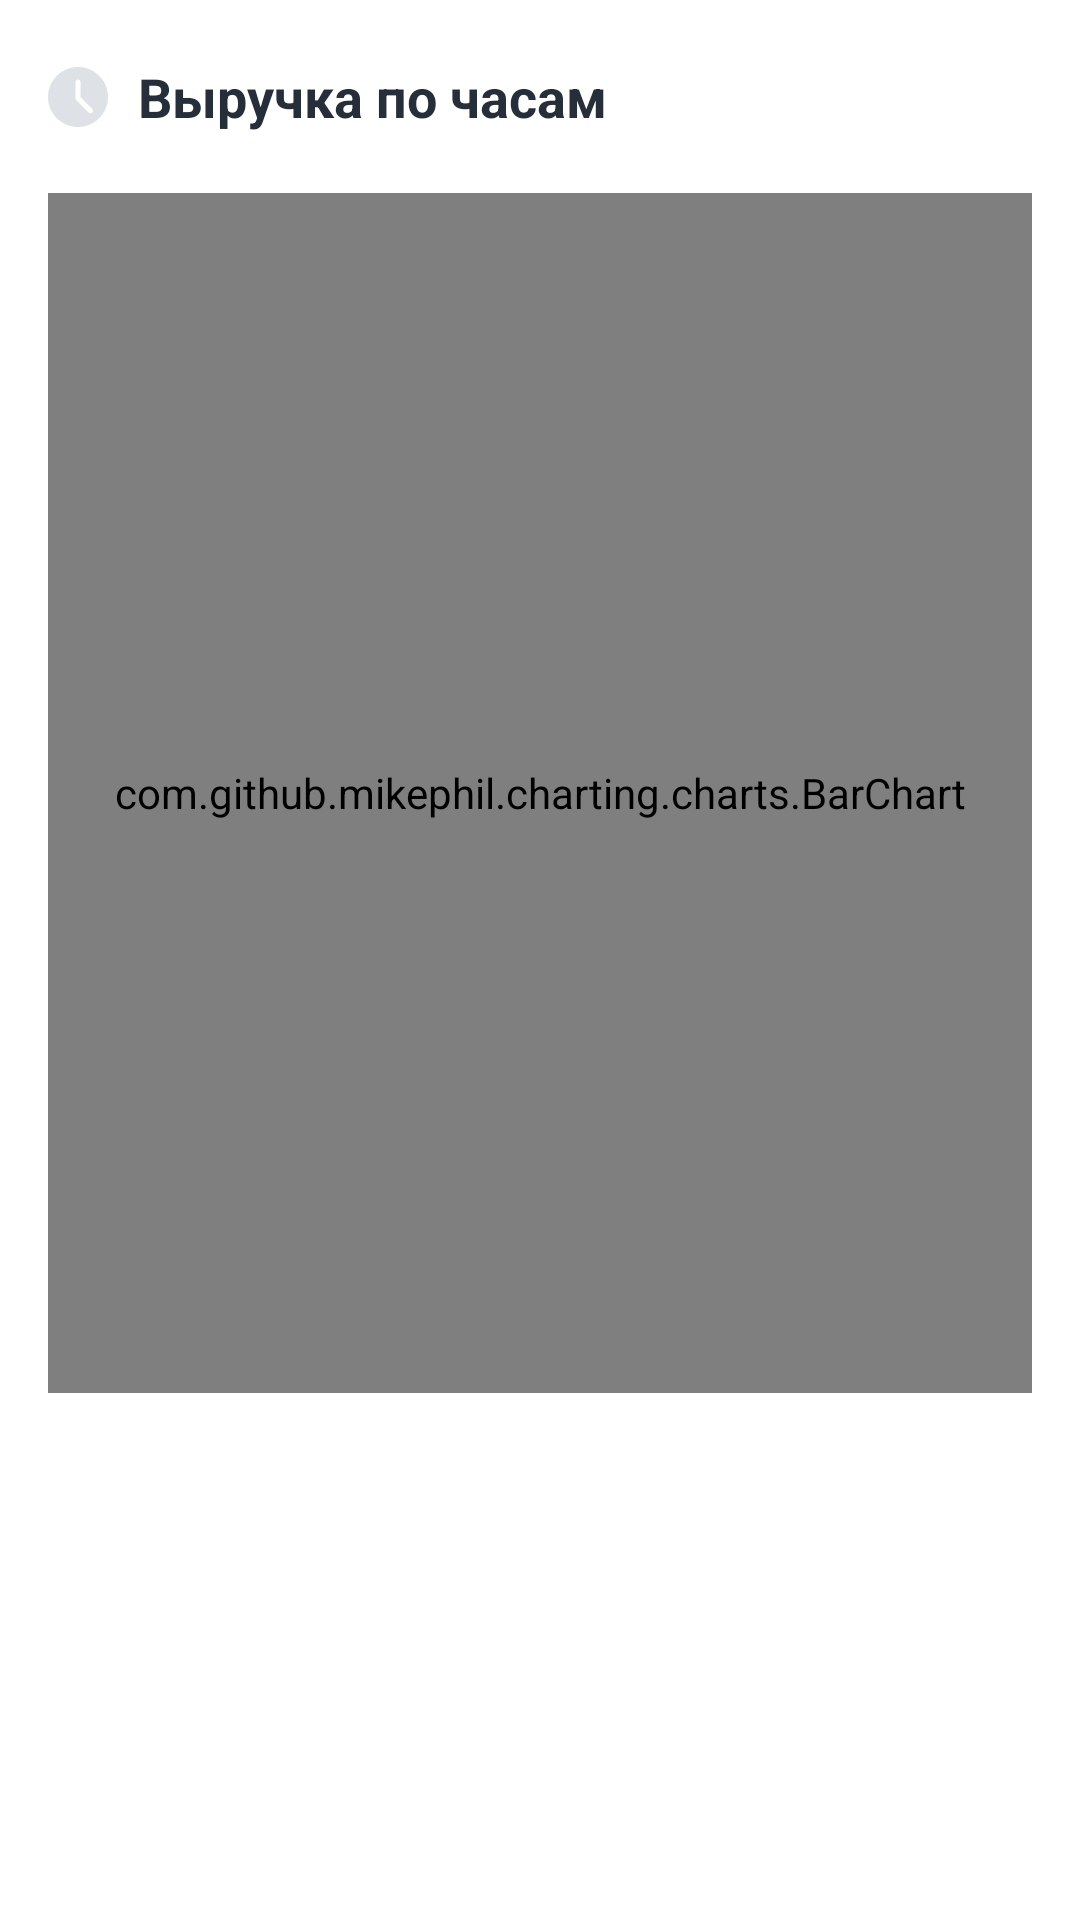

Locate icon controls on the screen. Image size 1080 x 1920, boxes as (x1, y1, x2, y2).
clock: (48, 67, 108, 127)
